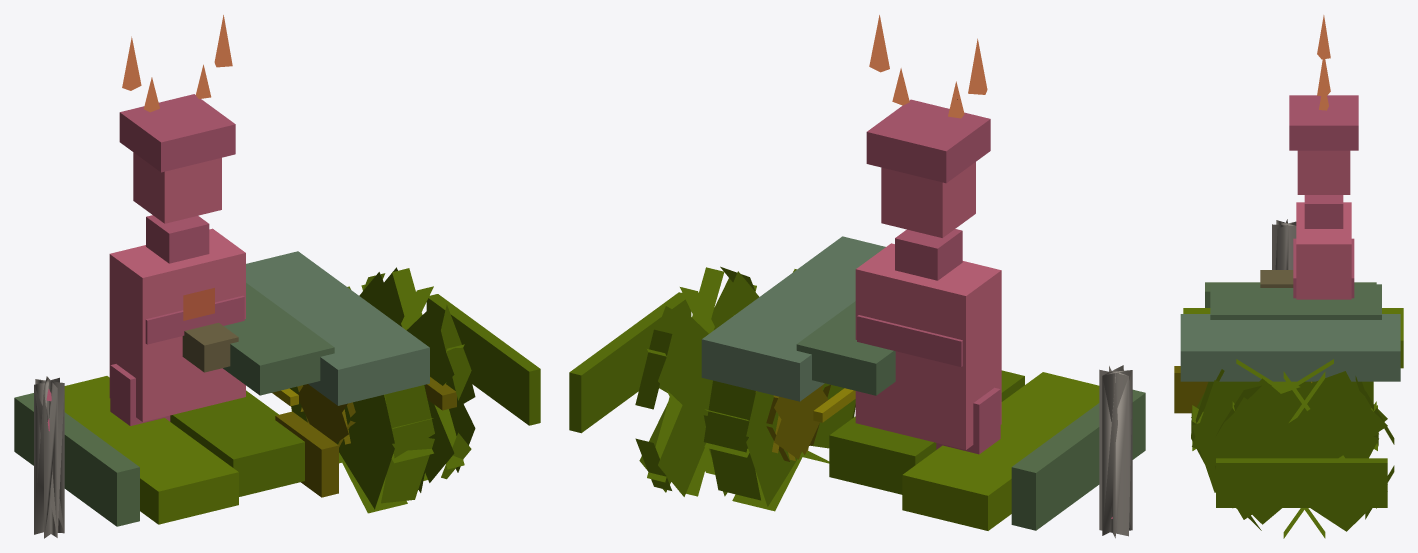
File: takeda-01.glb
The picture shows the model from 3 angles, left to right: view 1: azimuth 30°, elevation 25°; view 2: azimuth 150°, elevation 25°; view 3: azimuth 270°, elevation 25°; orthographic projection. The views are drawn at different scales.
Parts seen in each view (by area): view 1: samurai; view 2: samurai; view 3: samurai.
Part boxes in pixels (x1,y1,x2,y2): samurai: (14, 15, 540, 538); samurai: (569, 15, 1145, 538); samurai: (1174, 15, 1403, 538).
Bounding box in the file's own units: 1.62 × 1.64 × 0.8275.
